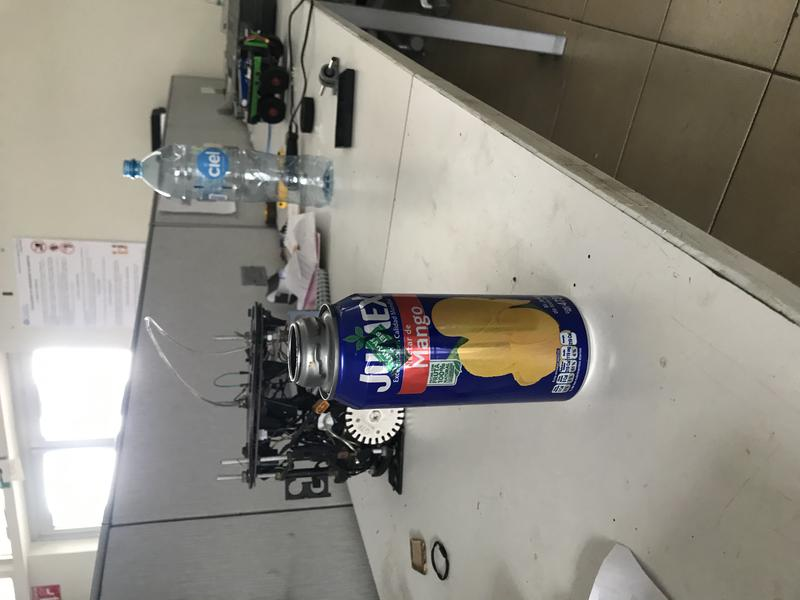jumex_botella: (287, 292, 596, 410)
